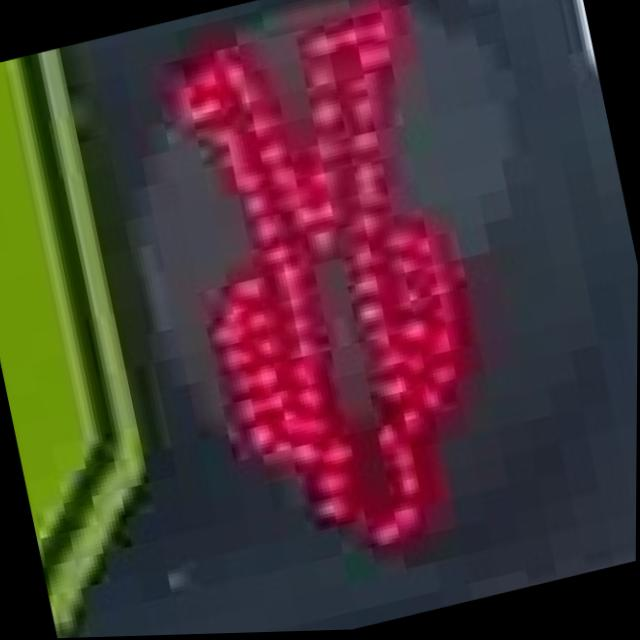red_light: (149, 0, 530, 606)
